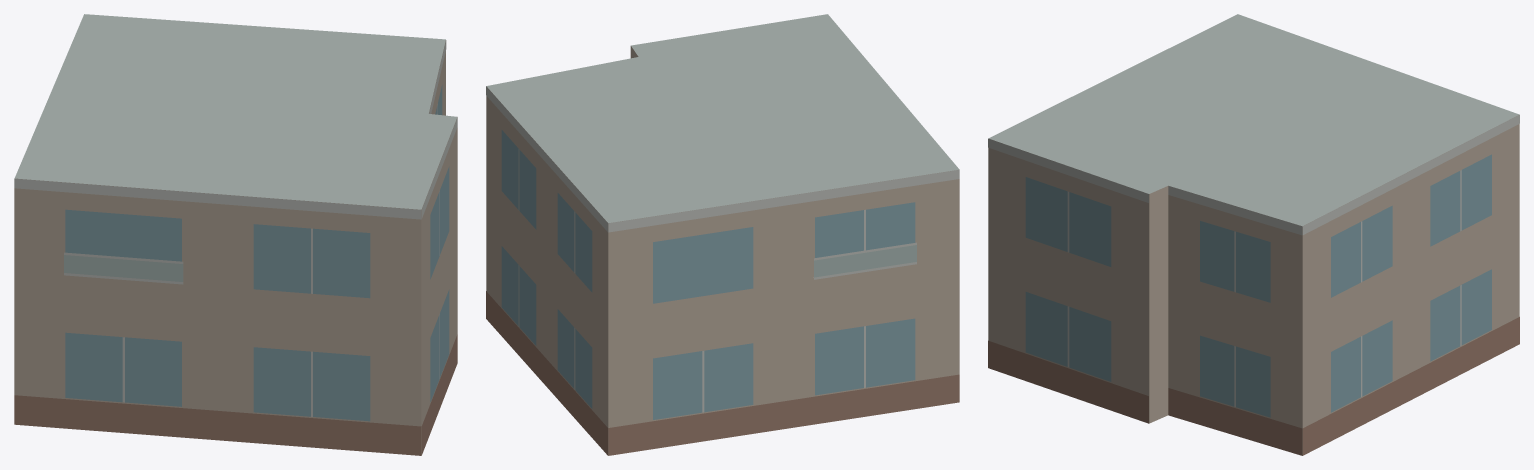
The model's file is survey-upis-32674931.glb.
3 renders of one model, left to right at view 1: azimuth 30°, elevation 25°; view 2: azimuth 150°, elevation 25°; view 3: azimuth 270°, elevation 25°, orthographic. The views are drawn at different scales.
Parts seen in each view (by area): view 1: survey-upis-32674931.tmp; view 2: survey-upis-32674931.tmp; view 3: survey-upis-32674931.tmp.
Part boxes in pixels (bbox=[...]): survey-upis-32674931.tmp: bbox=[14, 14, 457, 455]; survey-upis-32674931.tmp: bbox=[486, 14, 959, 455]; survey-upis-32674931.tmp: bbox=[988, 14, 1519, 455].
Bounding box in the file's own units: 12.1 × 6.1 × 12.81.
